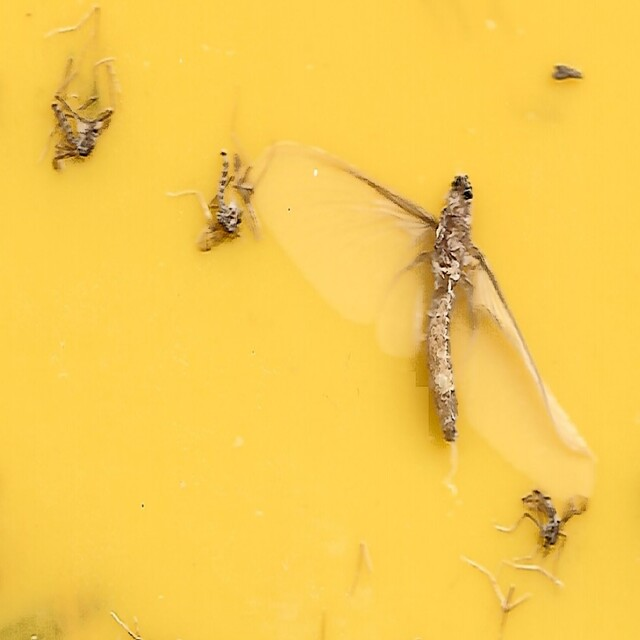Ephemeroptera: (257, 140, 590, 487)
Nematocera: (195, 148, 243, 257), (50, 84, 112, 168), (520, 483, 565, 556)
